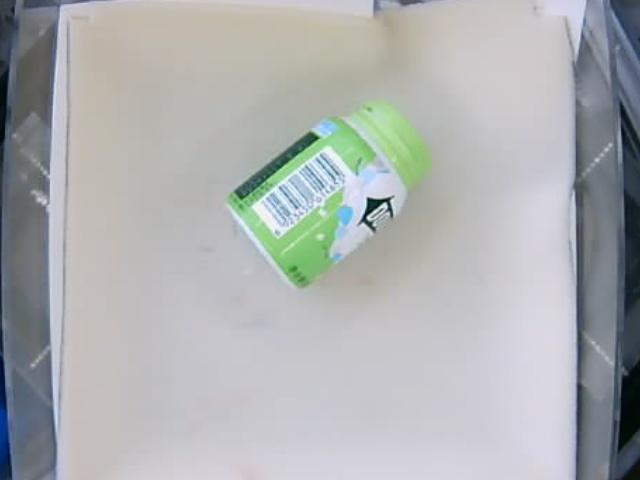Bottle: (226, 98, 432, 293)
